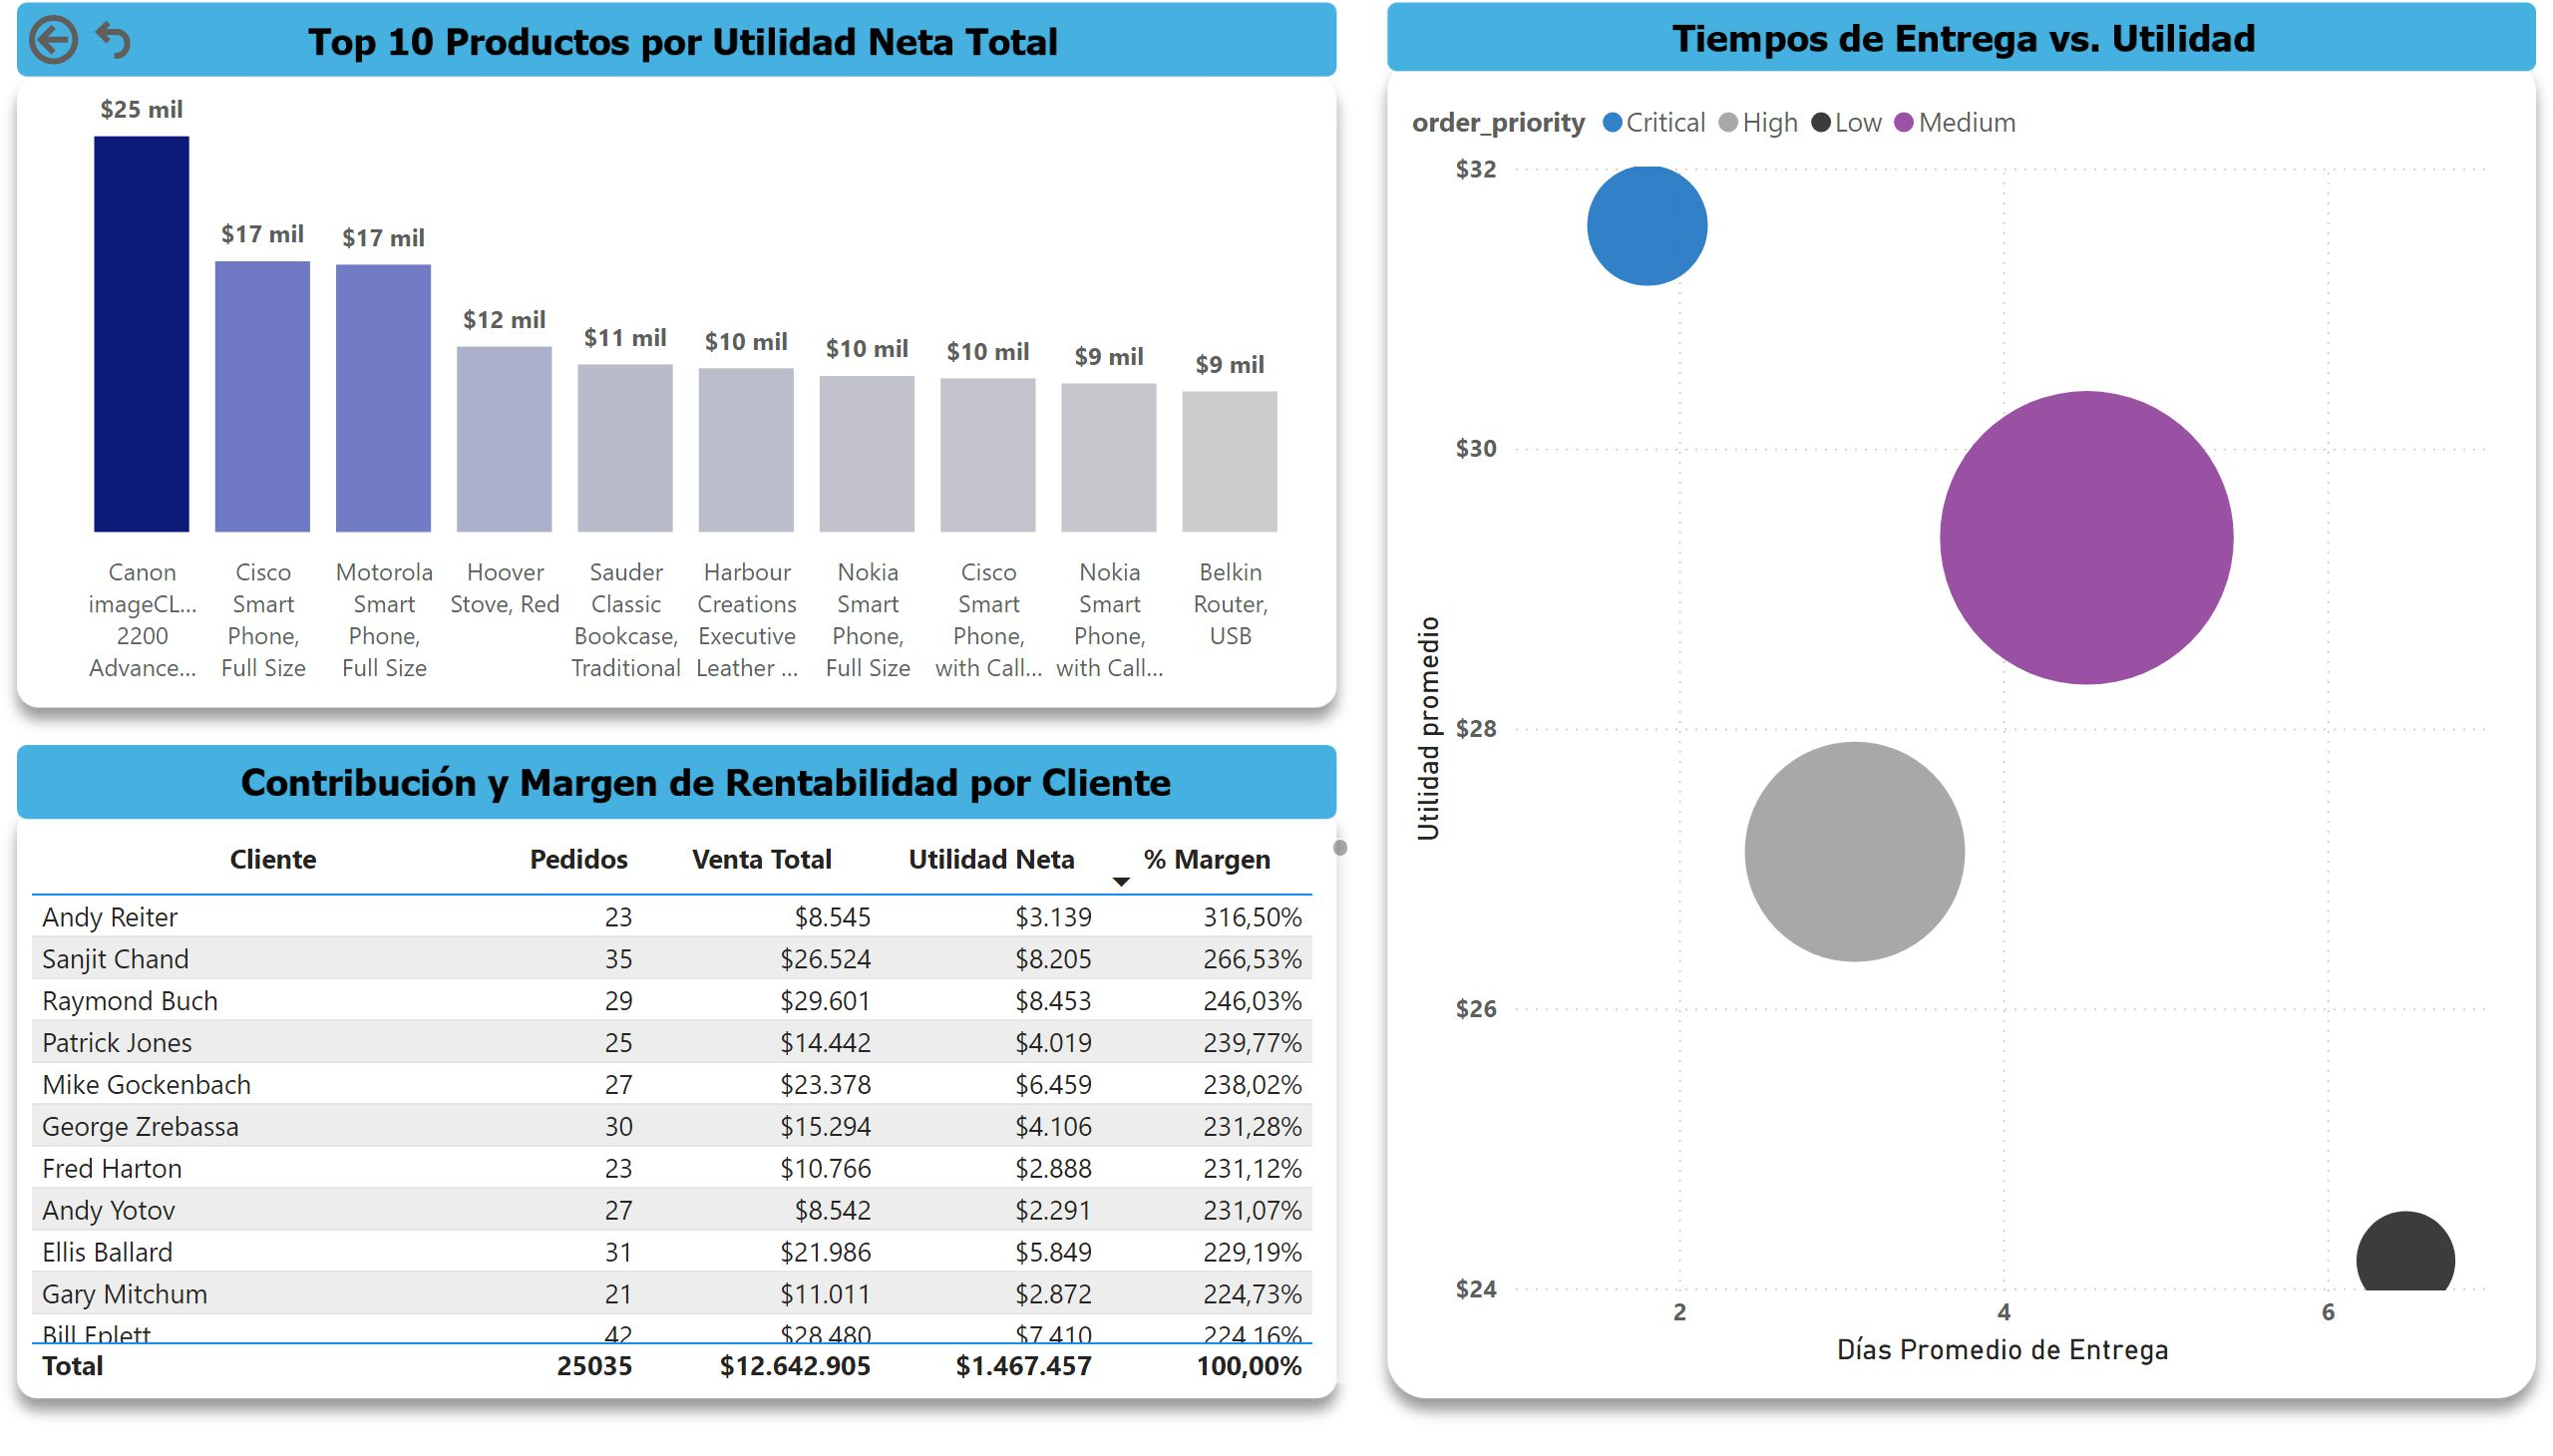

What the dashboard file says about the page in this screenshot:
{"tool":"powerbi","page":{"name":"Clientes y Logística","canvas":[1280,720],"ordinal":1},"visuals":[{"type":"tableEx","fields":{"Values":["Global_Superstore_Clean.customer_name","Global_Superstore_Clean.total_orders","Global_Superstore_Clean.total_spent","Global_Superstore_Clean.total_profit","Global_Superstore_Clean.profit_margin"]},"box":[9.6,414.9,671.5,283.9],"z":0},{"type":"clusteredColumnChart","title":"Top 10 Productos por Utilidad Neta Total","fields":{"Category":["Global_Superstore_Clean.product_name"],"Y":["Global_Superstore_Clean.total_profit"]},"box":[9.6,28.7,660.6,320.8],"z":1000},{"type":"scatterChart","fields":{"X":["Global_Superstore_Clean.avg_shipping_days"],"Y":["Global_Superstore_Clean.avg_profit"],"Size":["Global_Superstore_Clean.total_orders"],"Series":["Global_Superstore_Clean.order_priority"]},"box":[702.9,40.9,554.1,648.3],"z":2000},{"type":"actionButton","box":[10,2.5,41.2,33.8],"z":5000},{"type":"actionButton","box":[42.5,6.2,42.5,27.5],"z":6001}]}

Visuals, with their boxes in screenshot pixels (x1, y1, x2, y2), scaled from the page's 1280x720 canvas onto the 2553x1456 screenshot:
tableEx - Global_Superstore_Clean.customer_name x Global_Superstore_Clean.total_orders: (x1=19, y1=839, x2=1358, y2=1413)
"Top 10 Productos por Utilidad Neta Total" clusteredColumnChart: (x1=19, y1=58, x2=1336, y2=707)
scatterChart - Global_Superstore_Clean.avg_shipping_days x Global_Superstore_Clean.avg_profit: (x1=1402, y1=83, x2=2507, y2=1394)
actionButton: (x1=20, y1=5, x2=102, y2=74)
actionButton: (x1=85, y1=13, x2=170, y2=68)
